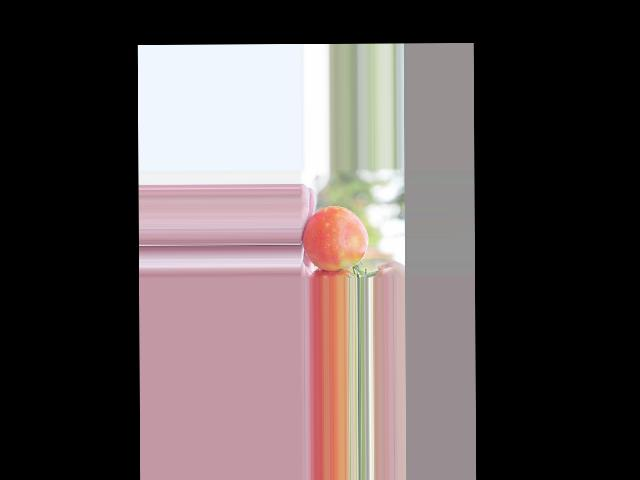tomato: (303, 206, 368, 270)
